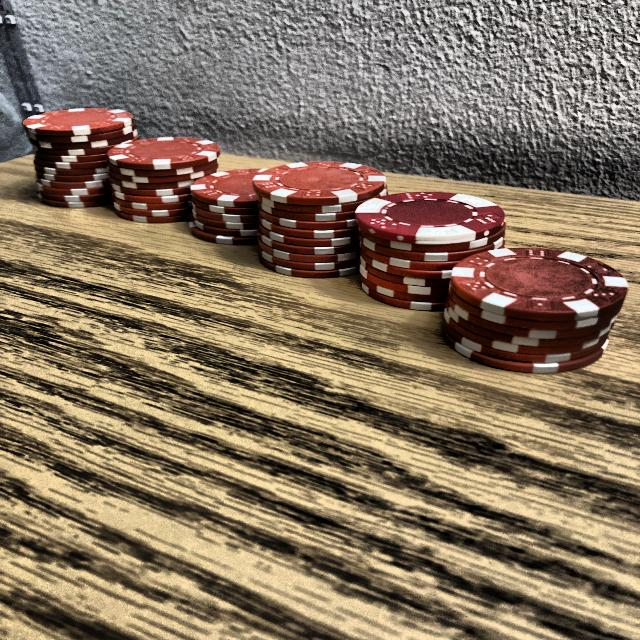Chip: (434, 225, 627, 386), (350, 167, 516, 320), (242, 159, 386, 281), (108, 116, 232, 235), (21, 101, 144, 207), (187, 163, 292, 247)
